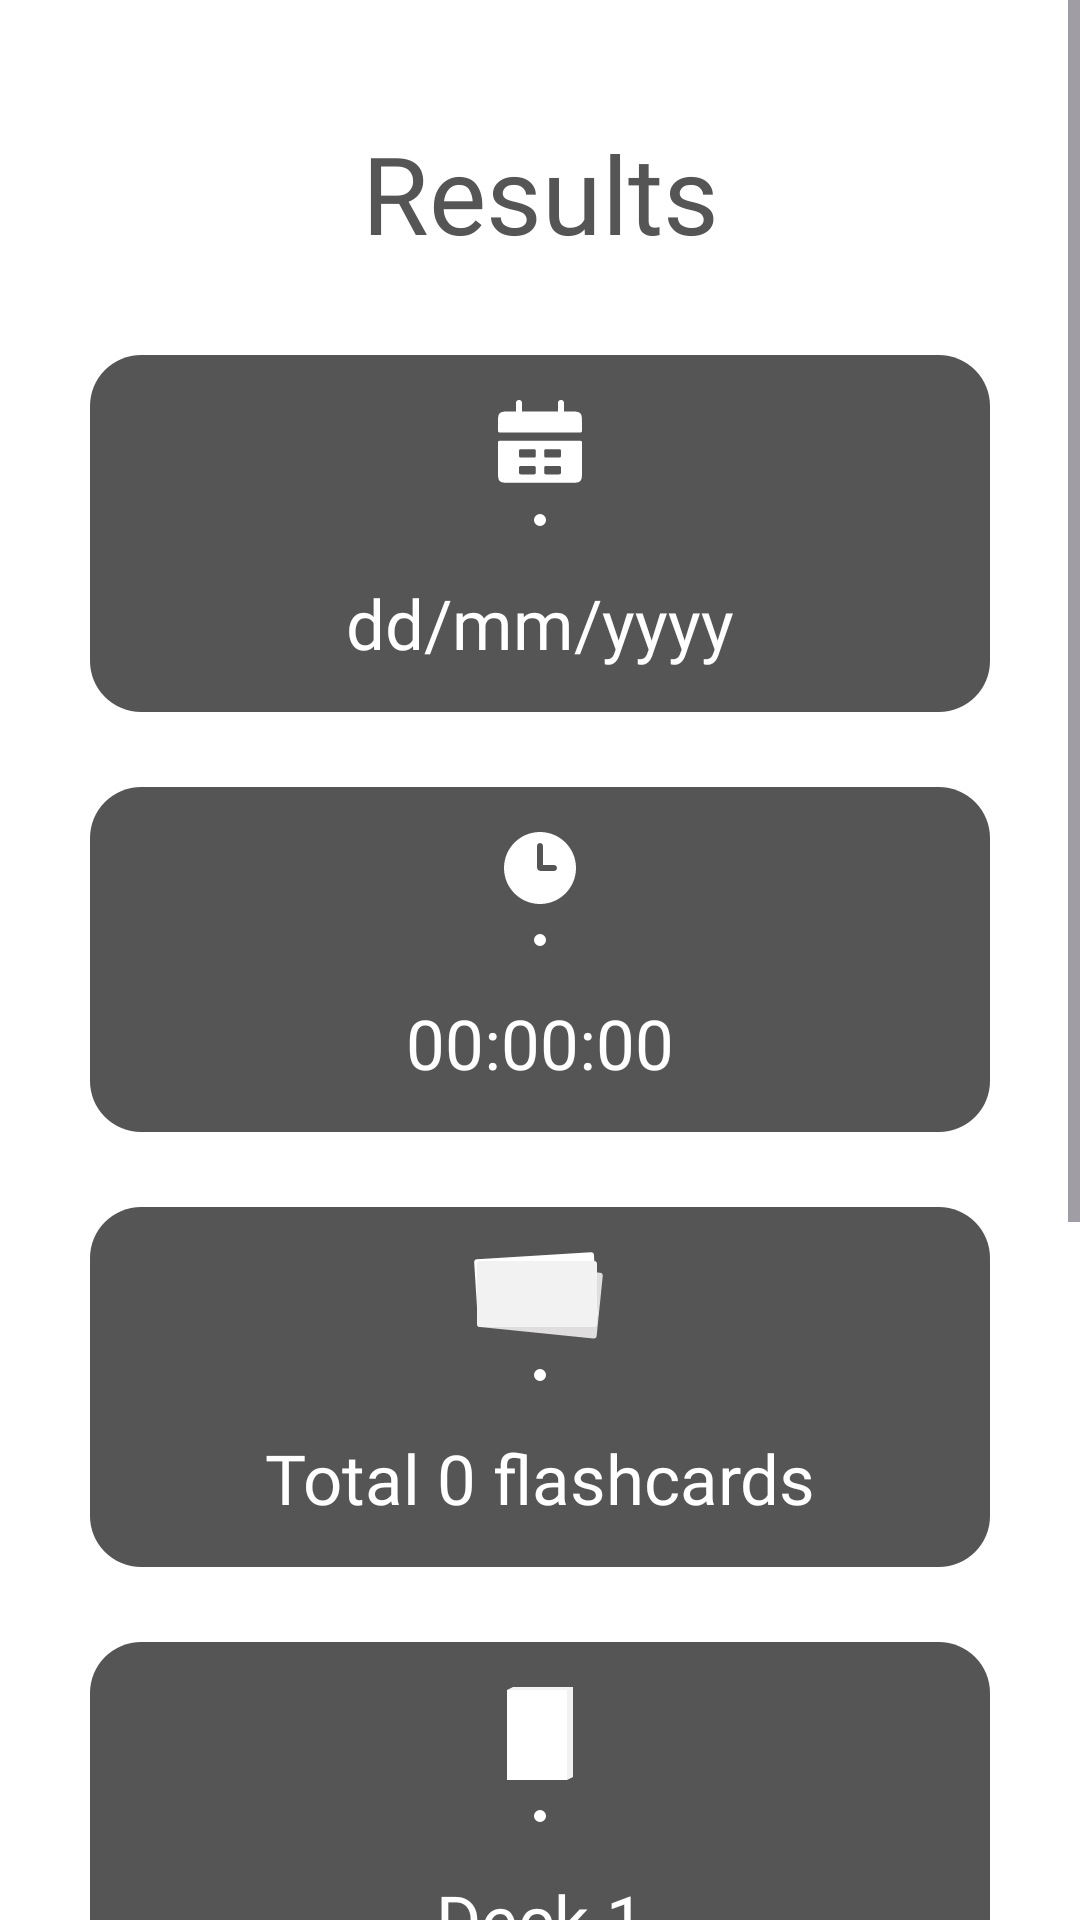

Icon click points for this 1080x1920 phone screenshot, format (x,y):
Calendar icon to show date: (540,441)
Clock icon to show used time: (540,868)
Flashcard icon to show all flashcards has been used: (538,1295)
